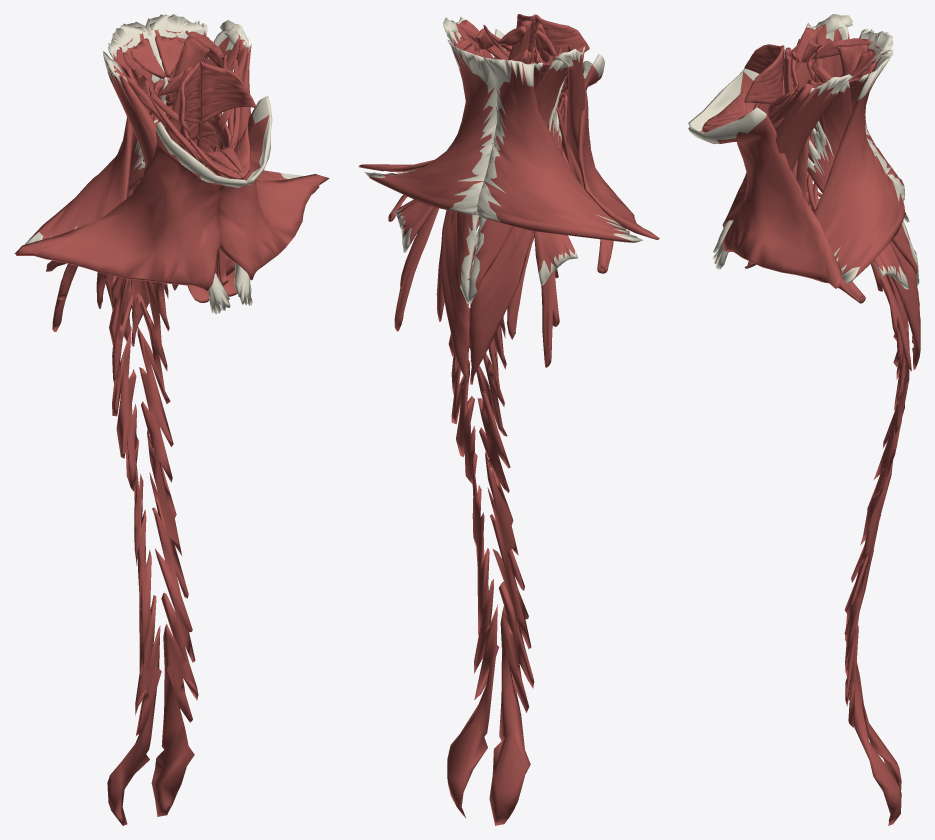
File: muscular-neck-mobile.glb
The picture shows the model from 3 angles, left to right: view 1: azimuth 30°, elevation 25°; view 2: azimuth 150°, elevation 25°; view 3: azimuth 270°, elevation 25°; orthographic projection. The views are drawn at different scales.
Visible parts, largest first — view 1: za.platysma-r, za.rotatores-l, za.rotatores-r, za.platysma-l, za.ascending-part-of-trapezius-muscle-r, za.sternocleidomastoid-muscle-r, za.superior-pharyngeal-constrictor-l, za.sternocleidomastoid-muscle-l, za.ascending-part-of-trapezius-muscle-l, za.superior-pharyngeal-constrictor-r, za.rectus-posterior-minor-capitis-muscle-l, za.rectus-posterior-major-capitis-muscle-l (+3 smaller); view 2: za.ascending-part-of-trapezius-muscle-r, za.rotatores-r, za.ascending-part-of-trapezius-muscle-l, za.rotatores-l, za.splenius-colli-muscle-r, za.platysma-r, za.splenius-colli-muscle-l, za.splenius-capitis-muscle-r, za.levator-scapulae-r, za.sternocleidomastoid-muscle-r, za.splenius-capitis-muscle-l, za.iliocostalis-colli-muscle (+6 smaller); view 3: za.platysma-l, za.ascending-part-of-trapezius-muscle-l, za.rotatores-l, za.sternocleidomastoid-muscle-l, za.rotatores-r, za.levator-scapulae-l, za.splenius-capitis-muscle-l, za.platysma-r, za.splenius-colli-muscle-l, za.superior-pharyngeal-constrictor-l, za.iliocostalis-colli-muscle, za.sternocleidomastoid-muscle-r (+7 smaller).
Part boxes in pixels (x1=…): za.platysma-r: x1=14, y1=122, x2=247, y2=290; za.rotatores-l: x1=136, y1=281, x2=198, y2=816; za.rotatores-r: x1=107, y1=276, x2=161, y2=825; za.platysma-l: x1=217, y1=96, x2=329, y2=280; za.ascending-part-of-trapezius-muscle-r: x1=24, y1=21, x2=168, y2=244; za.sternocleidomastoid-muscle-r: x1=103, y1=51, x2=230, y2=314; za.superior-pharyngeal-constrictor-l: x1=199, y1=61, x2=256, y2=123; za.sternocleidomastoid-muscle-l: x1=219, y1=20, x2=252, y2=305; za.ascending-part-of-trapezius-muscle-l: x1=145, y1=14, x2=303, y2=180; za.superior-pharyngeal-constrictor-r: x1=178, y1=61, x2=200, y2=125; za.rectus-posterior-minor-capitis-muscle-l: x1=155, y1=35, x2=184, y2=77; za.rectus-posterior-major-capitis-muscle-l: x1=165, y1=36, x2=209, y2=102; za.ascending-part-of-trapezius-muscle-r: x1=473, y1=57, x2=643, y2=242; za.rotatores-r: x1=476, y1=317, x2=534, y2=825; za.ascending-part-of-trapezius-muscle-l: x1=364, y1=45, x2=497, y2=214; za.rotatores-l: x1=447, y1=219, x2=498, y2=817; za.splenius-colli-muscle-r: x1=469, y1=226, x2=533, y2=384; za.platysma-r: x1=562, y1=54, x2=659, y2=239; za.splenius-colli-muscle-l: x1=439, y1=50, x2=484, y2=383; za.splenius-capitis-muscle-r: x1=468, y1=60, x2=568, y2=304; za.levator-scapulae-r: x1=534, y1=75, x2=578, y2=285; za.sternocleidomastoid-muscle-r: x1=555, y1=47, x2=591, y2=168; za.splenius-capitis-muscle-l: x1=445, y1=19, x2=479, y2=304; za.iliocostalis-colli-muscle: x1=394, y1=207, x2=438, y2=331; za.platysma-l: x1=688, y1=107, x2=841, y2=288; za.ascending-part-of-trapezius-muscle-l: x1=814, y1=49, x2=904, y2=283; za.rotatores-l: x1=844, y1=312, x2=909, y2=825; za.sternocleidomastoid-muscle-l: x1=712, y1=74, x2=852, y2=269; za.rotatores-r: x1=844, y1=324, x2=909, y2=790; za.levator-scapulae-l: x1=807, y1=121, x2=909, y2=289; za.splenius-capitis-muscle-l: x1=818, y1=79, x2=919, y2=287; za.platysma-r: x1=688, y1=68, x2=759, y2=227; za.splenius-colli-muscle-l: x1=813, y1=125, x2=920, y2=369; za.superior-pharyngeal-constrictor-l: x1=744, y1=46, x2=784, y2=103; za.iliocostalis-colli-muscle: x1=817, y1=191, x2=911, y2=371; za.sternocleidomastoid-muscle-r: x1=712, y1=14, x2=852, y2=253.
Bounding box in the file's own units: 0.2825 × 0.6894 × 0.1881.
